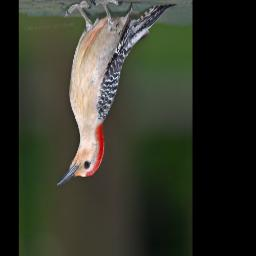Woodpecker: (48, 0, 183, 190)
